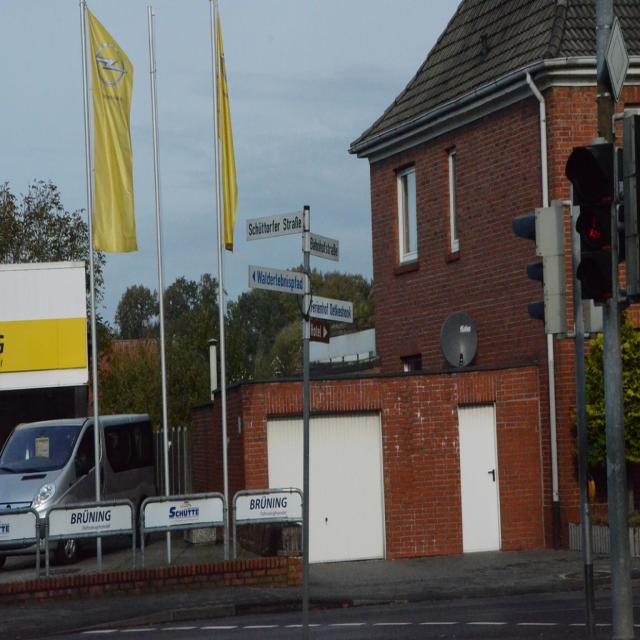car: (5, 405, 172, 556)
